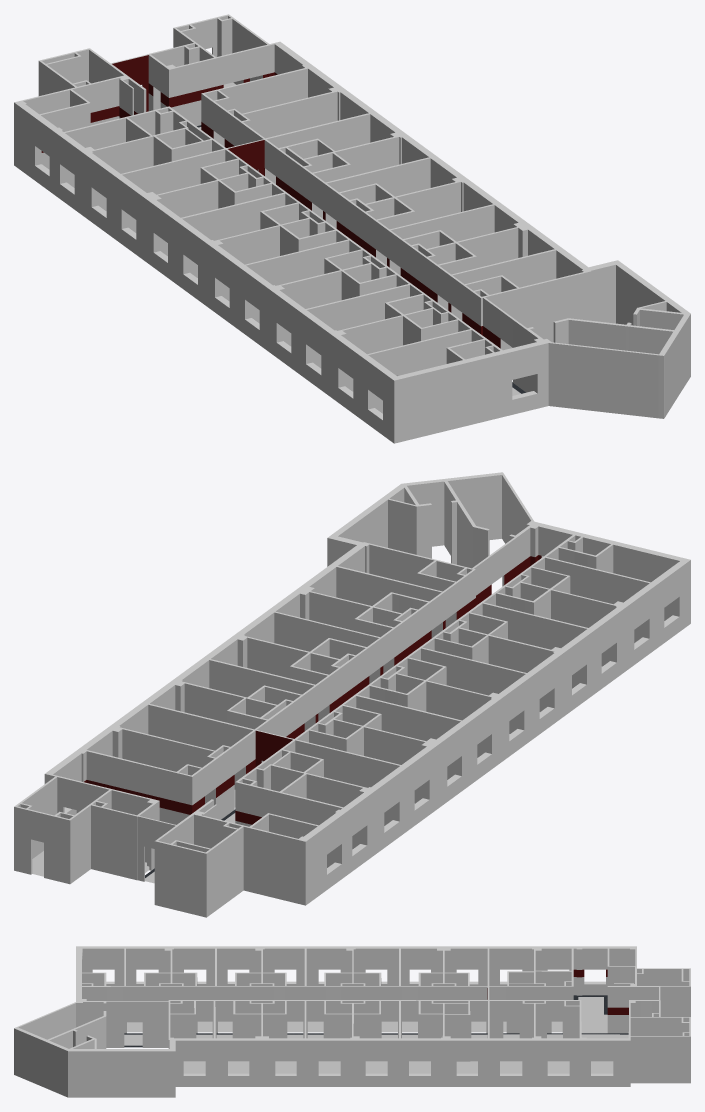
The model's file is Palata1_4thFloor.fbx.
3 views of the same model, one above another, from view 1: azimuth 30°, elevation 25°; view 2: azimuth 150°, elevation 25°; view 3: azimuth 270°, elevation 25° (orthographic). The views are drawn at different scales.
Visible parts, largest first — view 1: Plane; view 2: Plane; view 3: Plane.
Part boxes in pixels (<box>): Plane: <box>14,14,690,443</box>; Plane: <box>14,472,690,917</box>; Plane: <box>14,946,690,1097</box>.
Size of the model in its own units: 2031 by 420 by 5543.
